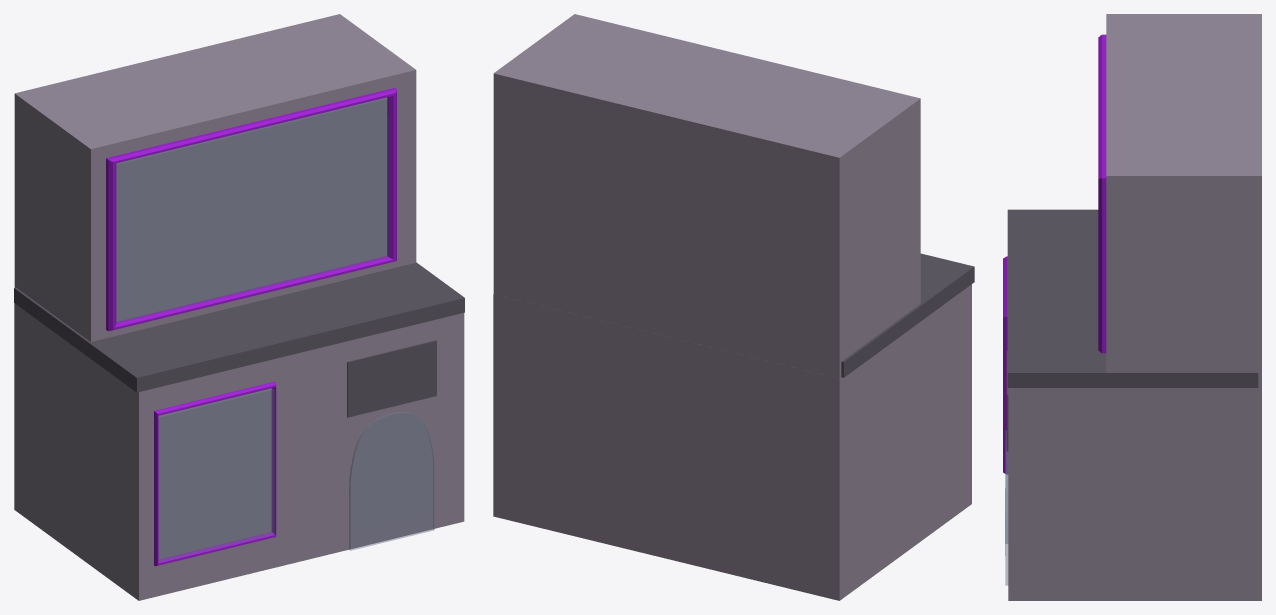
File: BasicStorePlaytest (1).fbx
The picture shows the model from 3 angles, left to right: view 1: azimuth 30°, elevation 25°; view 2: azimuth 150°, elevation 25°; view 3: azimuth 270°, elevation 25°; orthographic projection. The views are drawn at different scales.
Parts seen in each view (by area): view 1: pasted__pasted__pCube2, pasted__pCube2, pasted__pasted__pasted__pasted__pasted__pasted__pasted__past (×2), pCube26, pasted__pasted__pasted__pasted__pasted__pCube15, pasted__pasted__pasted__pCube23, pCube27, pasted__pCube23; view 2: pasted__pasted__pCube2, pasted__pCube2, pCube26; view 3: pasted__pasted__pCube2, pasted__pCube2, pCube26, pasted__pasted__pasted__pCube23, pasted__pCube23, pasted__pasted__pasted__pasted__pasted__pCube15.
Boxes of the visible parts, x1,y1,x2,y2 form: pasted__pasted__pCube2: (14,14,416,341); pasted__pCube2: (14,303,464,600); pasted__pasted__pasted__pasted__pasted__pasted__pasted__past (×2): (116,97,388,562); pCube26: (14,262,464,392); pasted__pasted__pasted__pasted__pasted__pCube15: (349,412,434,550); pasted__pasted__pasted__pCube23: (106,88,396,331); pCube27: (347,340,436,417); pasted__pCube23: (154,381,276,565); pasted__pasted__pCube2: (493,14,920,379); pasted__pCube2: (493,284,971,600); pCube26: (841,253,974,377); pasted__pasted__pCube2: (1106,14,1261,389); pasted__pCube2: (1008,388,1261,600); pCube26: (1007,209,1258,387); pasted__pasted__pasted__pCube23: (1098,34,1106,353); pasted__pCube23: (1003,256,1007,474); pasted__pasted__pasted__pasted__pasted__pCube15: (1005,430,1008,585).
Bounding box in the file's own units: 6.05 × 7.35 × 4.05.
